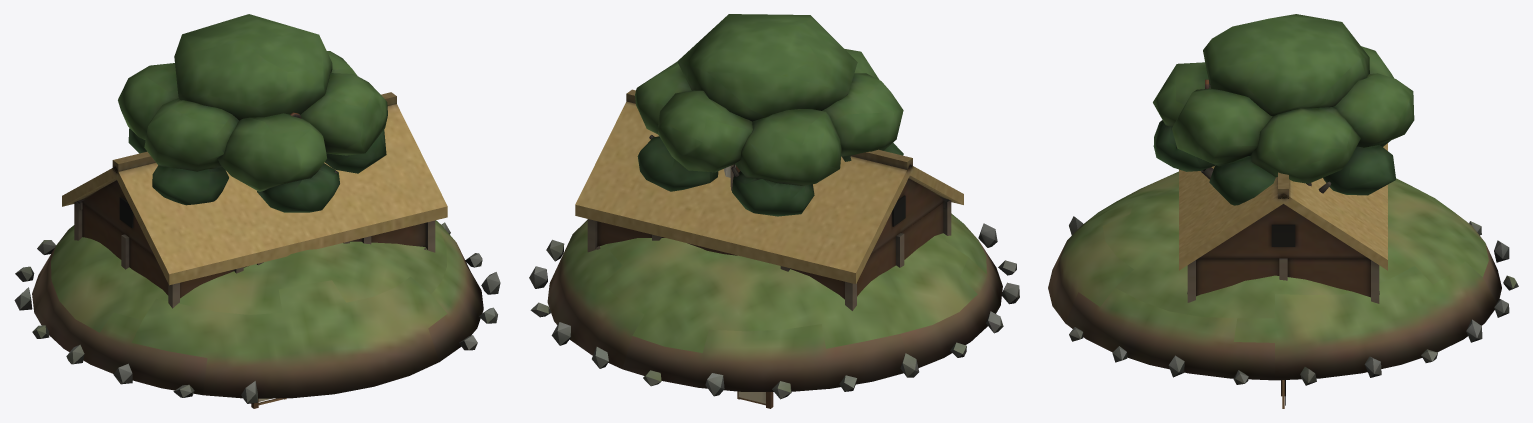
File: valley.glb
3 views of the same model, side by side, from view 1: azimuth 30°, elevation 25°; view 2: azimuth 150°, elevation 25°; view 3: azimuth 270°, elevation 25° (orthographic). The views are drawn at different scales.
Parts seen in each view (by area): view 1: barrow_mound_LOD0, oath_tree_LOD0, barn_LOD0; view 2: barrow_mound_LOD0, oath_tree_LOD0, barn_LOD0; view 3: barrow_mound_LOD0, oath_tree_LOD0, barn_LOD0.
Part boxes in pixels (<box>): barrow_mound_LOD0: <box>14,220,500,403</box>; oath_tree_LOD0: <box>118,14,387,212</box>; barn_LOD0: <box>62,92,447,308</box>; barrow_mound_LOD0: <box>529,213,1019,399</box>; oath_tree_LOD0: <box>635,14,903,216</box>; barn_LOD0: <box>575,89,963,310</box>; barrow_mound_LOD0: <box>1048,171,1518,385</box>; oath_tree_LOD0: <box>1153,14,1414,205</box>; barn_LOD0: <box>1179,143,1387,303</box>.
Size of what is drawn, in the model's own units: 18 by 15.5 by 18.
2 materials, 2 textured.
